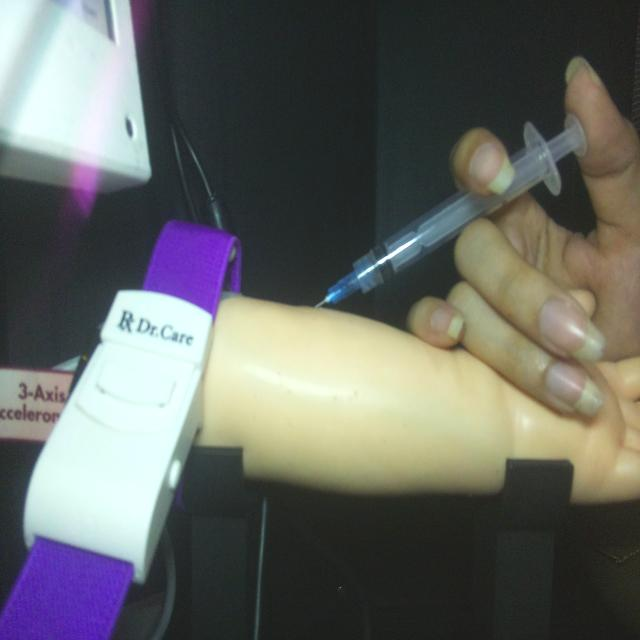22 degrees: (313, 109, 588, 311)
